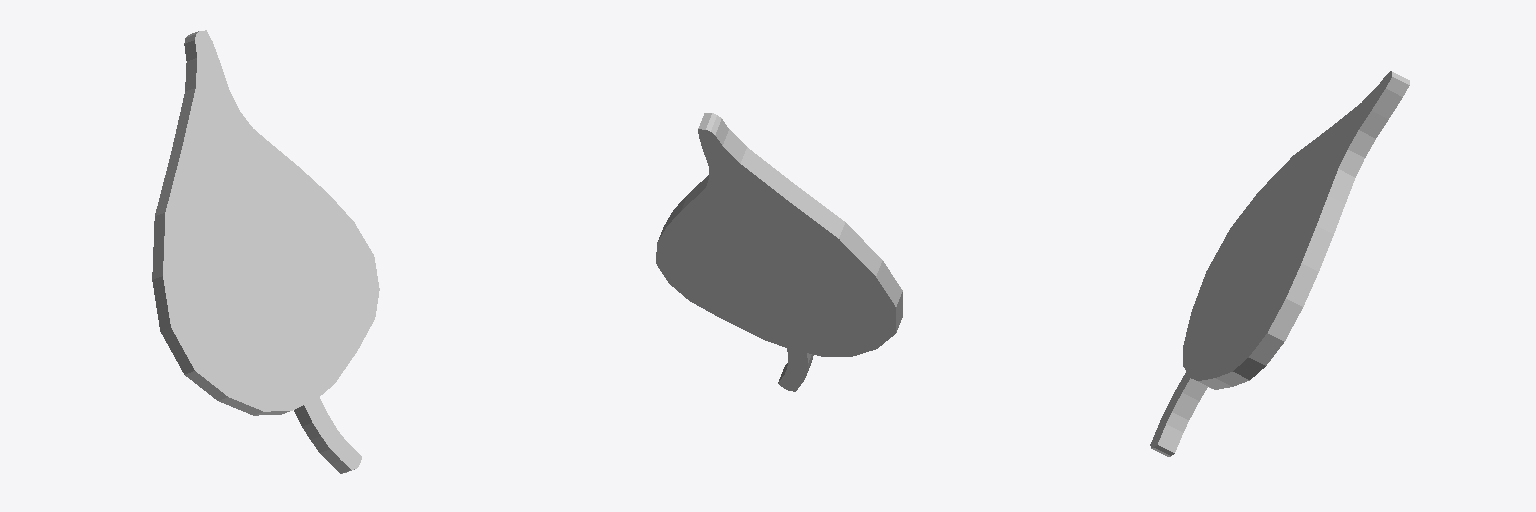
The model's file is mint_pickup.obj.
The picture shows the model from 3 angles: view 1: azimuth 30°, elevation 25°; view 2: azimuth 150°, elevation 25°; view 3: azimuth 270°, elevation 25°; orthographic projection.
Parts seen in each view (by area): view 1: ikona_miety_model.006; view 2: ikona_miety_model.006; view 3: ikona_miety_model.006.
Part boxes in pixels (x1,y1,x2,y2): ikona_miety_model.006: (152, 30, 379, 473); ikona_miety_model.006: (656, 113, 902, 391); ikona_miety_model.006: (1150, 71, 1409, 456).
Size of the model in its own units: 1.06 by 1.67 by 1.07.